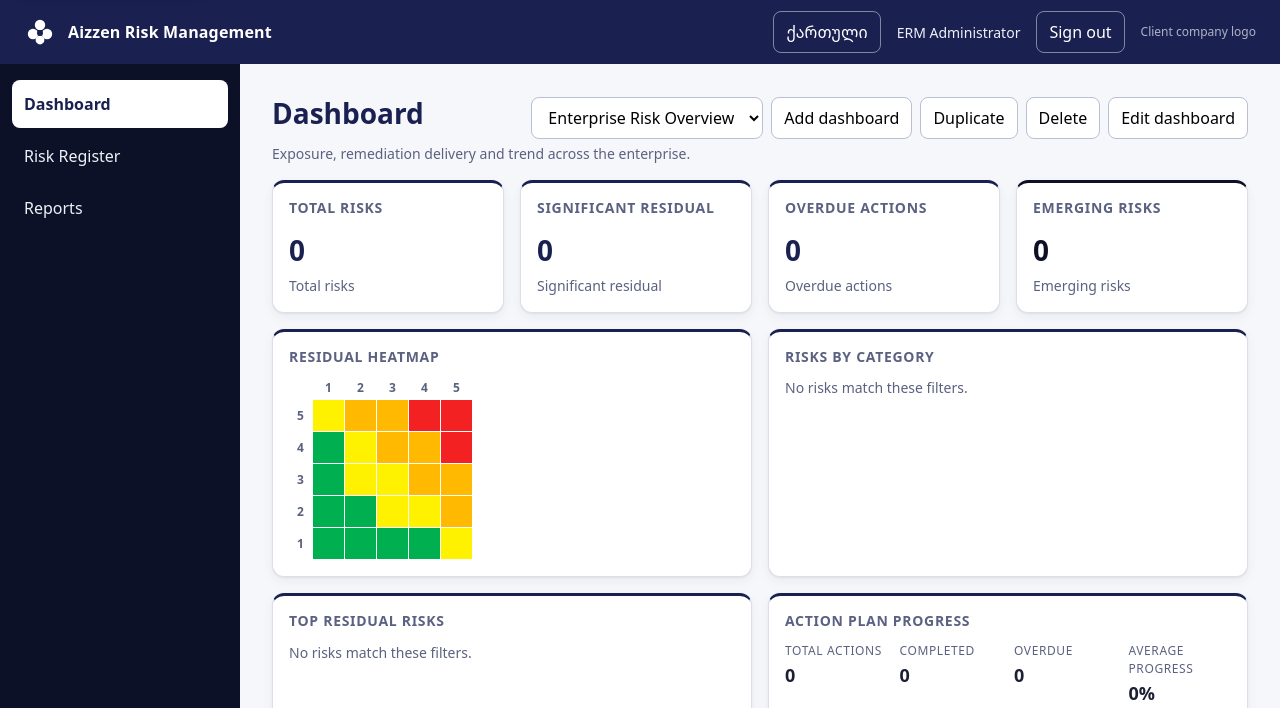
Test case: bilingual UI › switches language at runtime from the toggle
The image size is (1280, 708).
Expected: the link "Risk Register" is shown, top-left (24, 145), bottom-right (120, 167)
Click the button with aria-label "Switch to Georgian": (827, 32) top-left (773, 11), bottom-right (881, 53)
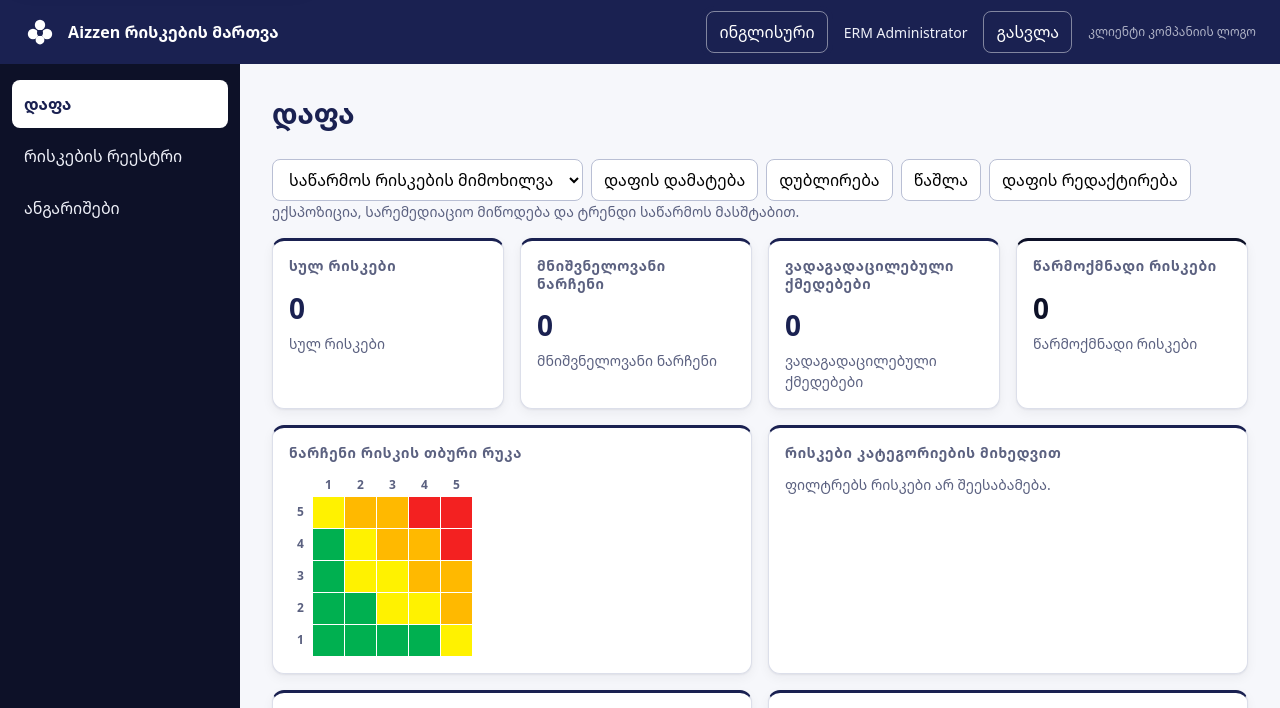
Expected: the link "რისკების რეესტრი" is shown, top-left (24, 145), bottom-right (182, 167)
Expected: the link "Risk Register" is gone
Expected: the button with aria-label "გადართვა ინგლისურზე" is shown, top-left (706, 11), bottom-right (828, 53)
